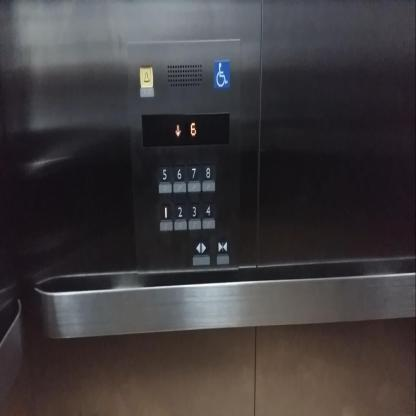1: (158, 201, 174, 220)
2: (172, 200, 186, 221)
3: (186, 200, 200, 221)
4: (200, 200, 216, 219)
5: (156, 162, 172, 184)
6: (172, 163, 187, 183)
7: (186, 161, 200, 183)
8: (201, 161, 215, 182)
CH: (213, 58, 230, 90)
alarm: (139, 63, 154, 88)
close: (216, 236, 230, 255)
led: (140, 109, 231, 148)
open: (192, 236, 211, 256)
